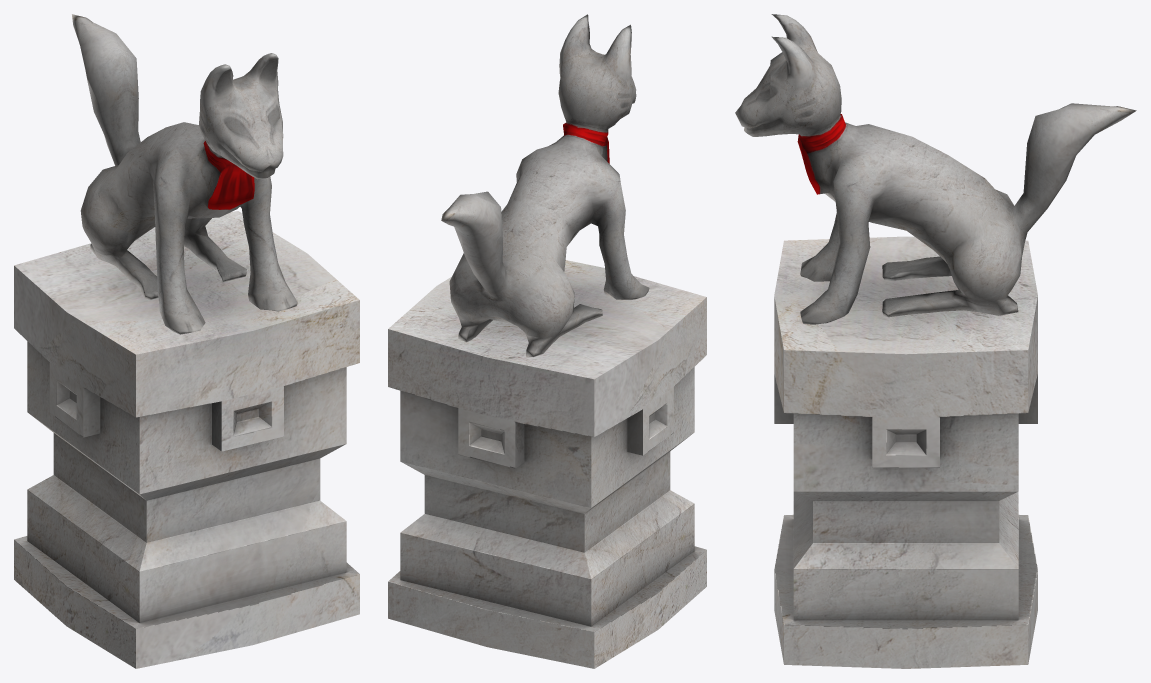
The model's file is FoxStatue.fbx.
The picture shows the model from 3 angles, left to right: view 1: azimuth 30°, elevation 25°; view 2: azimuth 150°, elevation 25°; view 3: azimuth 270°, elevation 25°; orthographic projection. The views are drawn at different scales.
Visible parts, largest first — view 1: FoxStatue_002; view 2: FoxStatue_002; view 3: FoxStatue_002.
Boxes of the visible parts, x1,y1,x2,y2 form: FoxStatue_002: (14,14,359,668); FoxStatue_002: (388,14,706,668); FoxStatue_002: (735,14,1136,668).
Bounding box in the file's own units: 163 × 378 × 235.
